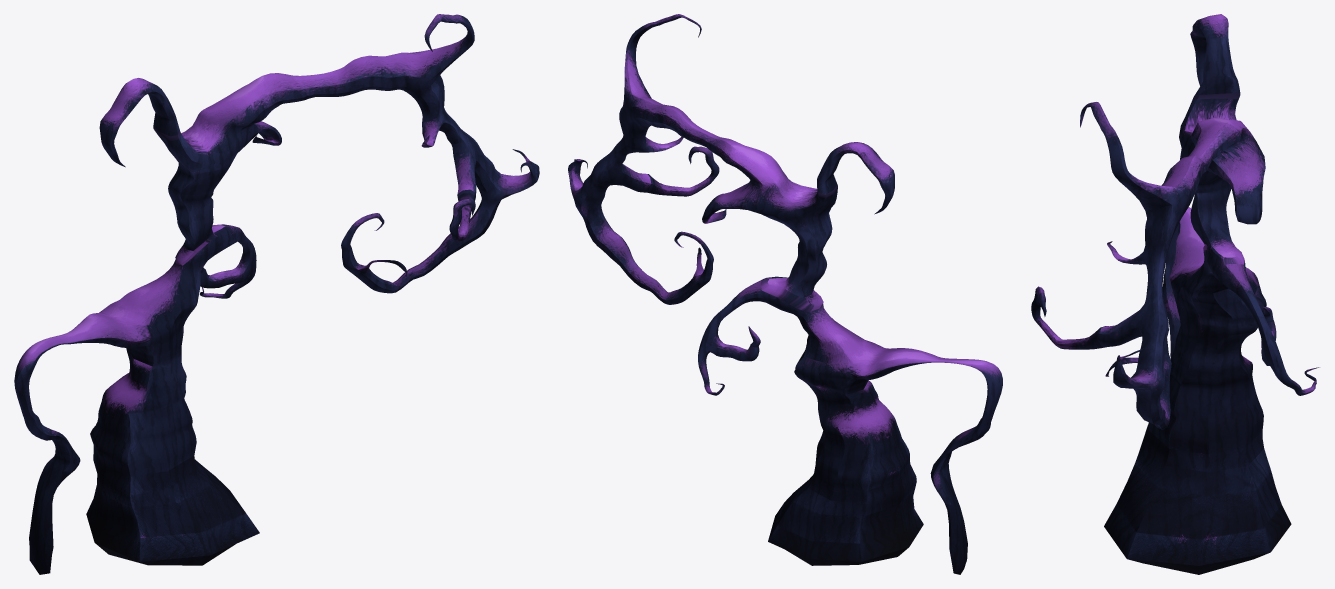
File: AliceTreeBig.fbx
3 views of the same model, side by side, from view 1: azimuth 30°, elevation 25°; view 2: azimuth 150°, elevation 25°; view 3: azimuth 270°, elevation 25° (orthographic). The views are drawn at different scales.
Parts seen in each view (by area): view 1: Cube_1; view 2: Cube_1; view 3: Cube_1.
Boxes of the visible parts, x1,y1,x2,y2 form: Cube_1: (14,14,539,574); Cube_1: (568,14,1002,574); Cube_1: (1031,14,1319,574).
Bounding box in the file's own units: 395 × 381 × 176.
Materials: 1 (1 with a texture image).
